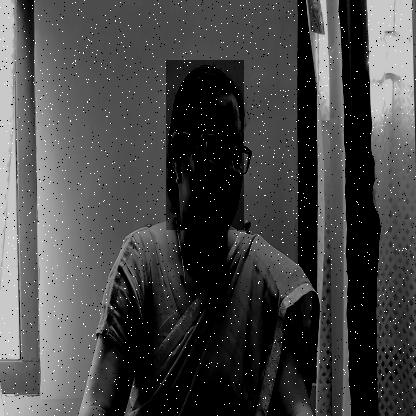Distracted: (166, 60, 244, 230)
